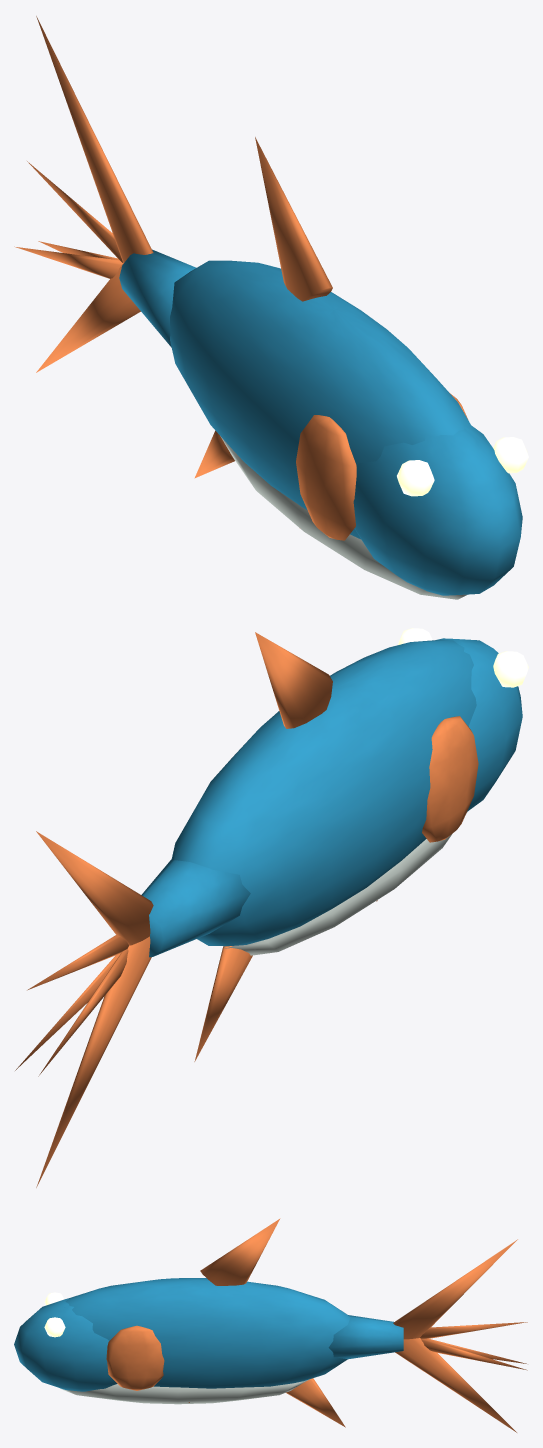
Rendered from animal_fish.glb.
The picture shows the model from 3 angles, top to bottom: view 1: azimuth 30°, elevation 25°; view 2: azimuth 150°, elevation 25°; view 3: azimuth 270°, elevation 25°; orthographic projection. The views are drawn at different scales.
Parts seen in each view (by area): view 1: animal_fish_body, animal_fish_head, animal_fish_gill_L, animal_fish_fin_caudal_upper, animal_fish_fin_dorsal, animal_fish_peduncle, animal_fish_belly, animal_fish_fin_caudal_lower, animal_fish_fin_caudal_ray0, animal_fish_eye_L, animal_fish_fin_caudal_ray1, animal_fish_eye_R (+1 smaller); view 2: animal_fish_body, animal_fish_peduncle, animal_fish_head, animal_fish_gill_L, animal_fish_fin_caudal_lower, animal_fish_fin_caudal_upper, animal_fish_fin_dorsal, animal_fish_belly, animal_fish_fin_anal, animal_fish_fin_caudal_ray0, animal_fish_fin_caudal_ray1, animal_fish_eye_L (+1 smaller); view 3: animal_fish_body, animal_fish_head, animal_fish_gill_R, animal_fish_belly, animal_fish_peduncle, animal_fish_fin_caudal_upper, animal_fish_fin_caudal_lower, animal_fish_fin_dorsal, animal_fish_fin_anal, animal_fish_fin_caudal_ray2, animal_fish_fin_caudal_ray1, animal_fish_eye_R (+1 smaller).
Boxes of the visible parts, x1,y1,x2,y2 form: animal_fish_body: (170,260,473,539); animal_fish_head: (353,425,522,595); animal_fish_gill_L: (296,415,356,540); animal_fish_fin_caudal_upper: (36,16,153,263); animal_fish_fin_dorsal: (255,137,332,301); animal_fish_peduncle: (119,249,196,347); animal_fish_belly: (220,436,467,599); animal_fish_fin_caudal_lower: (36,263,140,372); animal_fish_fin_caudal_ray0: (14,246,122,278); animal_fish_eye_L: (397,460,434,496); animal_fish_fin_caudal_ray1: (27,161,122,262); animal_fish_eye_R: (493,437,528,473); animal_fish_body: (172,640,476,946); animal_fish_peduncle: (141,858,250,957); animal_fish_head: (435,638,522,811); animal_fish_gill_L: (422,716,478,842); animal_fish_fin_caudal_lower: (36,936,151,1187); animal_fish_fin_caudal_upper: (36,831,153,945); animal_fish_fin_dorsal: (255,632,332,728); animal_fish_belly: (223,812,467,955); animal_fish_fin_anal: (194,946,252,1061); animal_fish_fin_caudal_ray0: (38,948,128,1076); animal_fish_fin_caudal_ray1: (27,935,128,990); animal_fish_eye_L: (493,651,528,687); animal_fish_body: (64,1278,350,1388); animal_fish_head: (14,1298,117,1391); animal_fish_gill_R: (106,1325,164,1390); animal_fish_belly: (59,1379,309,1404); animal_fish_peduncle: (328,1315,403,1359); animal_fish_fin_caudal_upper: (393,1239,517,1339); animal_fish_fin_caudal_lower: (395,1338,516,1432); animal_fish_fin_dorsal: (200,1218,280,1285); animal_fish_fin_anal: (286,1378,345,1427); animal_fish_fin_caudal_ray2: (421,1338,527,1370); animal_fish_fin_caudal_ray1: (420,1322,527,1338); animal_fish_eye_R: (44,1317,65,1337).
Bounding box in the file's own units: 0.1108 × 0.29 × 0.628.
4 materials, 3 textured.
